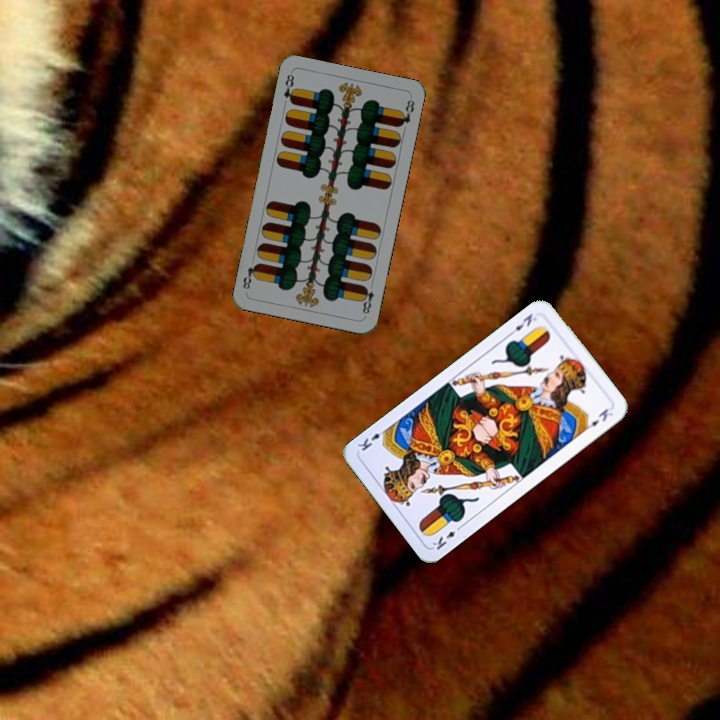E8: (357, 279, 377, 317), (280, 70, 299, 106)
EK: (428, 521, 465, 552), (505, 309, 539, 338)
